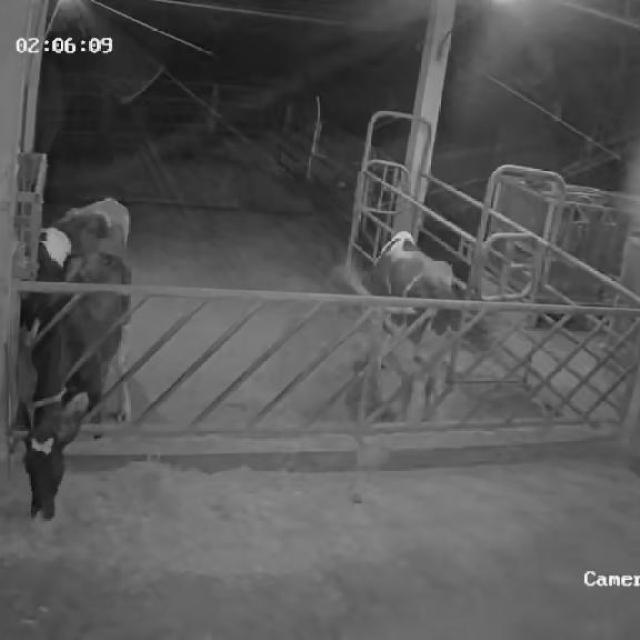feeding: (12, 246, 132, 526)
standing: (332, 218, 473, 427), (10, 192, 130, 364)
